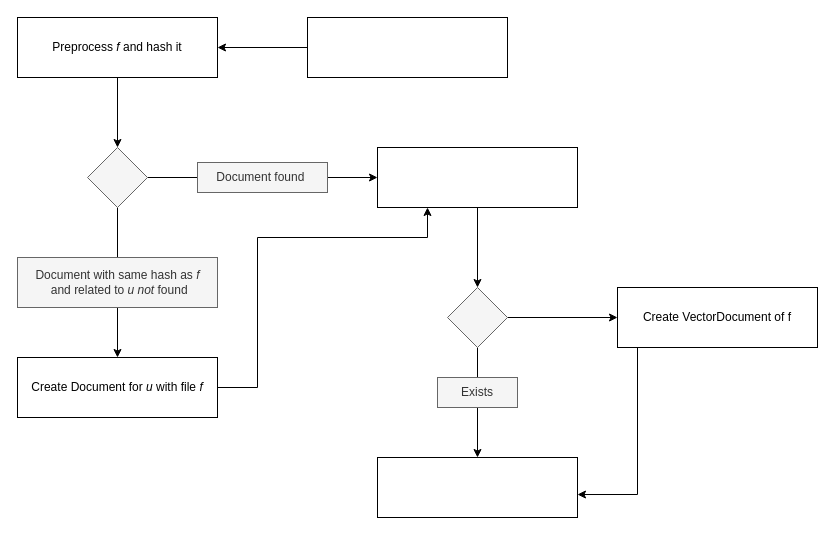
Image size: 835x535. Some labels were removed from this diagram. Each missing label, with the box of its shape:
Check if VectorDocument with same hash as f exists: (376, 146, 578, 208)
Update M2M of VectorDocument of f with the Document of f related to u: (376, 456, 578, 518)
User u upload file f: (306, 16, 508, 78)
